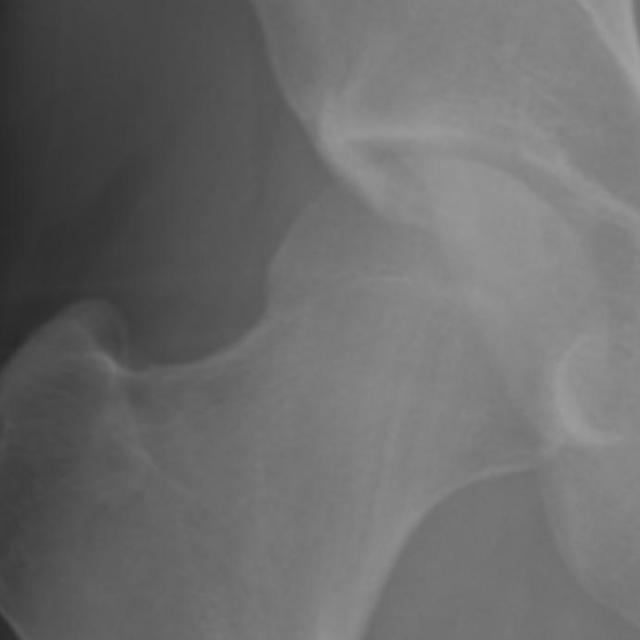Fitted_femural_head: (348, 156, 432, 348)
